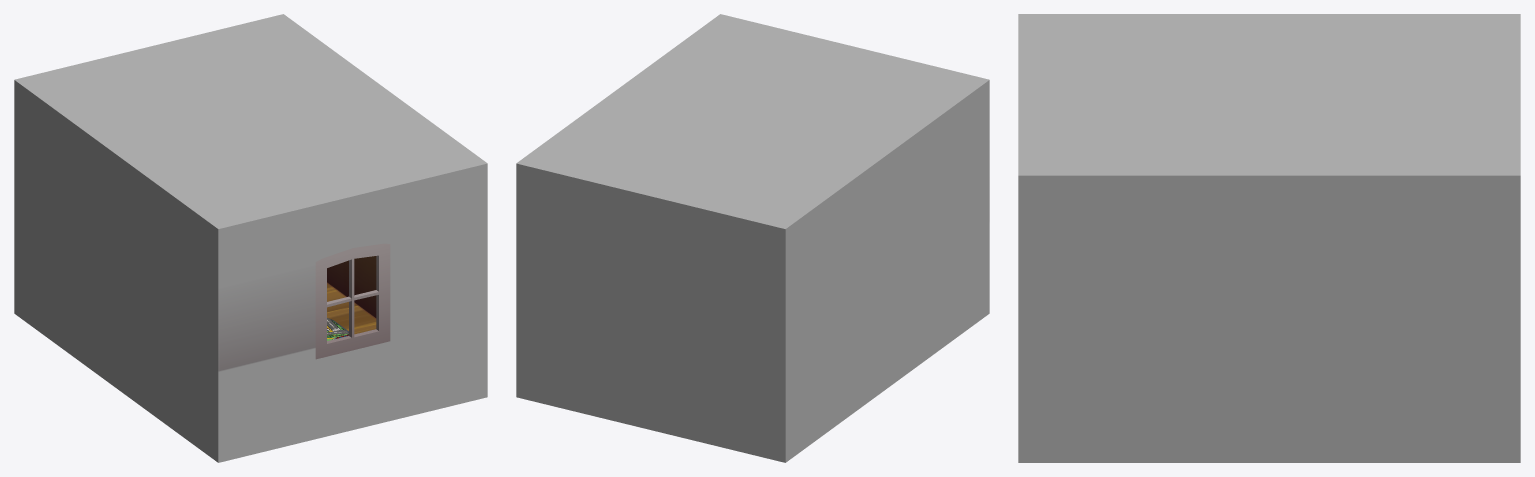
The model's file is SM_Kidroom_Mat_TestV1.fbx.
3 views of the same model, side by side, from view 1: azimuth 30°, elevation 25°; view 2: azimuth 150°, elevation 25°; view 3: azimuth 270°, elevation 25° (orthographic). The views are drawn at different scales.
Parts seen in each view (by area): view 1: SM_KidRoom; view 2: SM_KidRoom; view 3: SM_KidRoom.
Boxes of the visible parts, x1,y1,x2,y2 form: SM_KidRoom: [14, 14, 487, 462]; SM_KidRoom: [516, 14, 989, 462]; SM_KidRoom: [1018, 14, 1520, 462].
Size of the model in its own units: 3.1 by 2.57 by 4.07.
